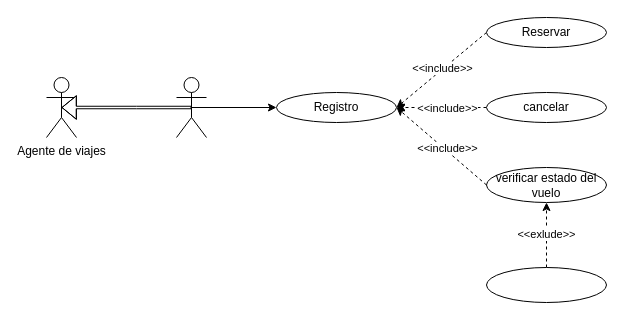
Image size: 624x320. Some labels were removed from this diagram. Here are the shapes that lost their labels. From the top down, the centre of each, then its label:
the point at 191,107: Cliente
the point at 546,284: seleccionar otro vuelo
